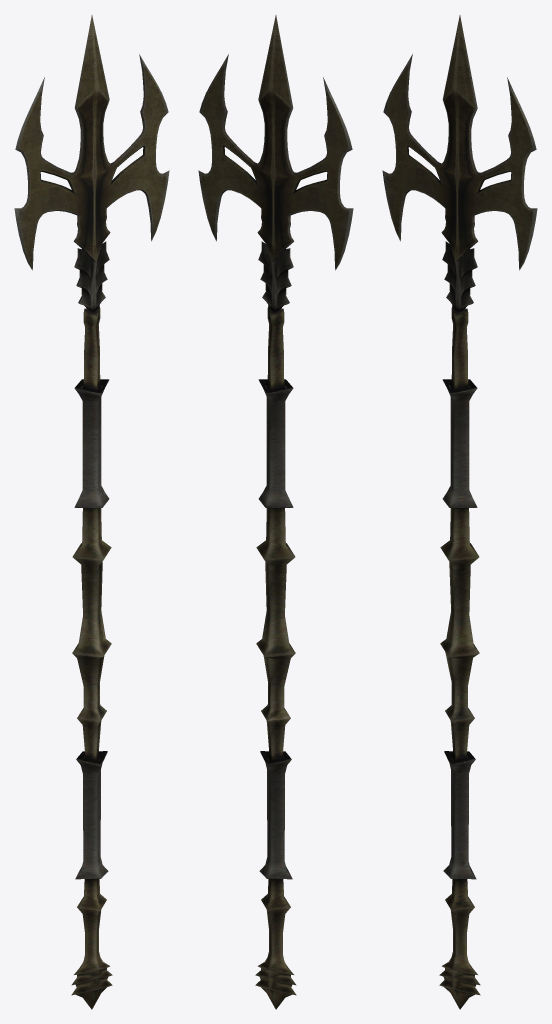
Rendered from Trident.obj.
3 renders of one model, left to right at view 1: azimuth 30°, elevation 25°; view 2: azimuth 150°, elevation 25°; view 3: azimuth 330°, elevation 25°, orthographic.
Parts seen in each view (by area): view 1: Trident; view 2: Trident; view 3: Trident.
Part boxes in pixels (x1,y1,x2,y2): Trident: (14,15,169,1009); Trident: (198,15,353,1009); Trident: (382,15,537,1009).
Size of the model in its own units: 0.6977 by 4.28 by 0.1788.
1 material, 1 textured.
